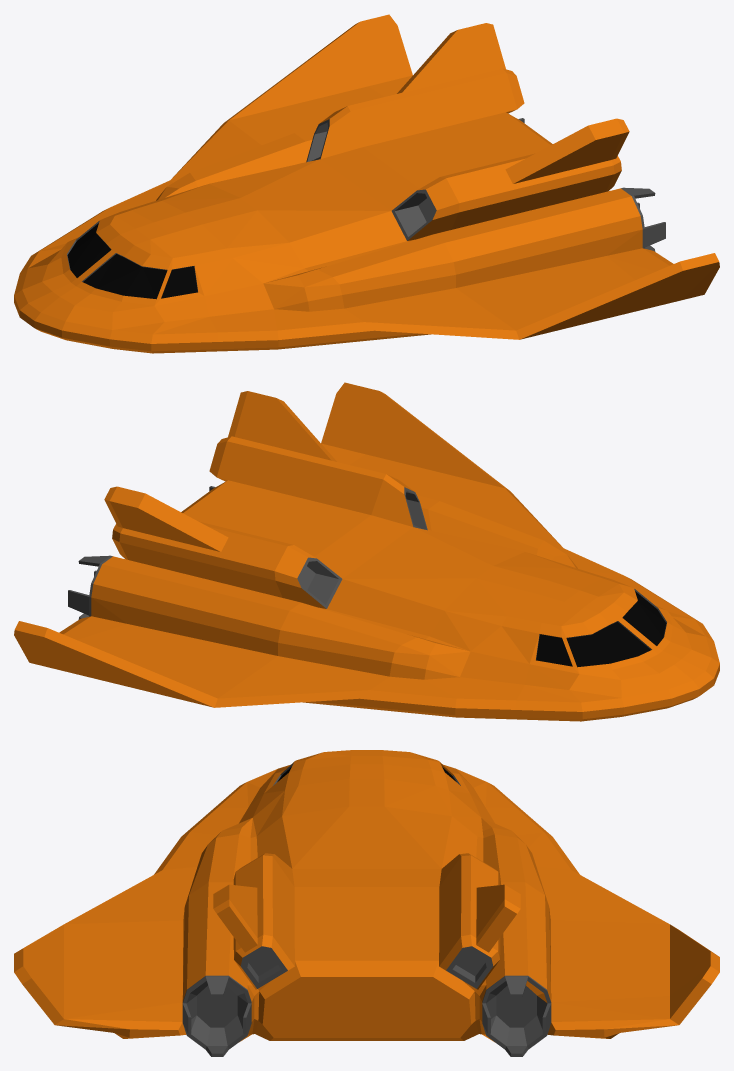
The model's file is PShipModel.FBX.
The picture shows the model from 3 angles, top to bottom: view 1: azimuth 30°, elevation 25°; view 2: azimuth 150°, elevation 25°; view 3: azimuth 270°, elevation 25°; orthographic projection. The views are drawn at different scales.
Visible parts, largest first — view 1: polySurface1; view 2: polySurface1; view 3: polySurface1.
Part boxes in pixels (x1,y1,x2,y2): polySurface1: (14, 14, 719, 353); polySurface1: (14, 382, 719, 721); polySurface1: (14, 750, 719, 1056).
Bounding box in the file's own units: 171 × 41.97 × 179.
